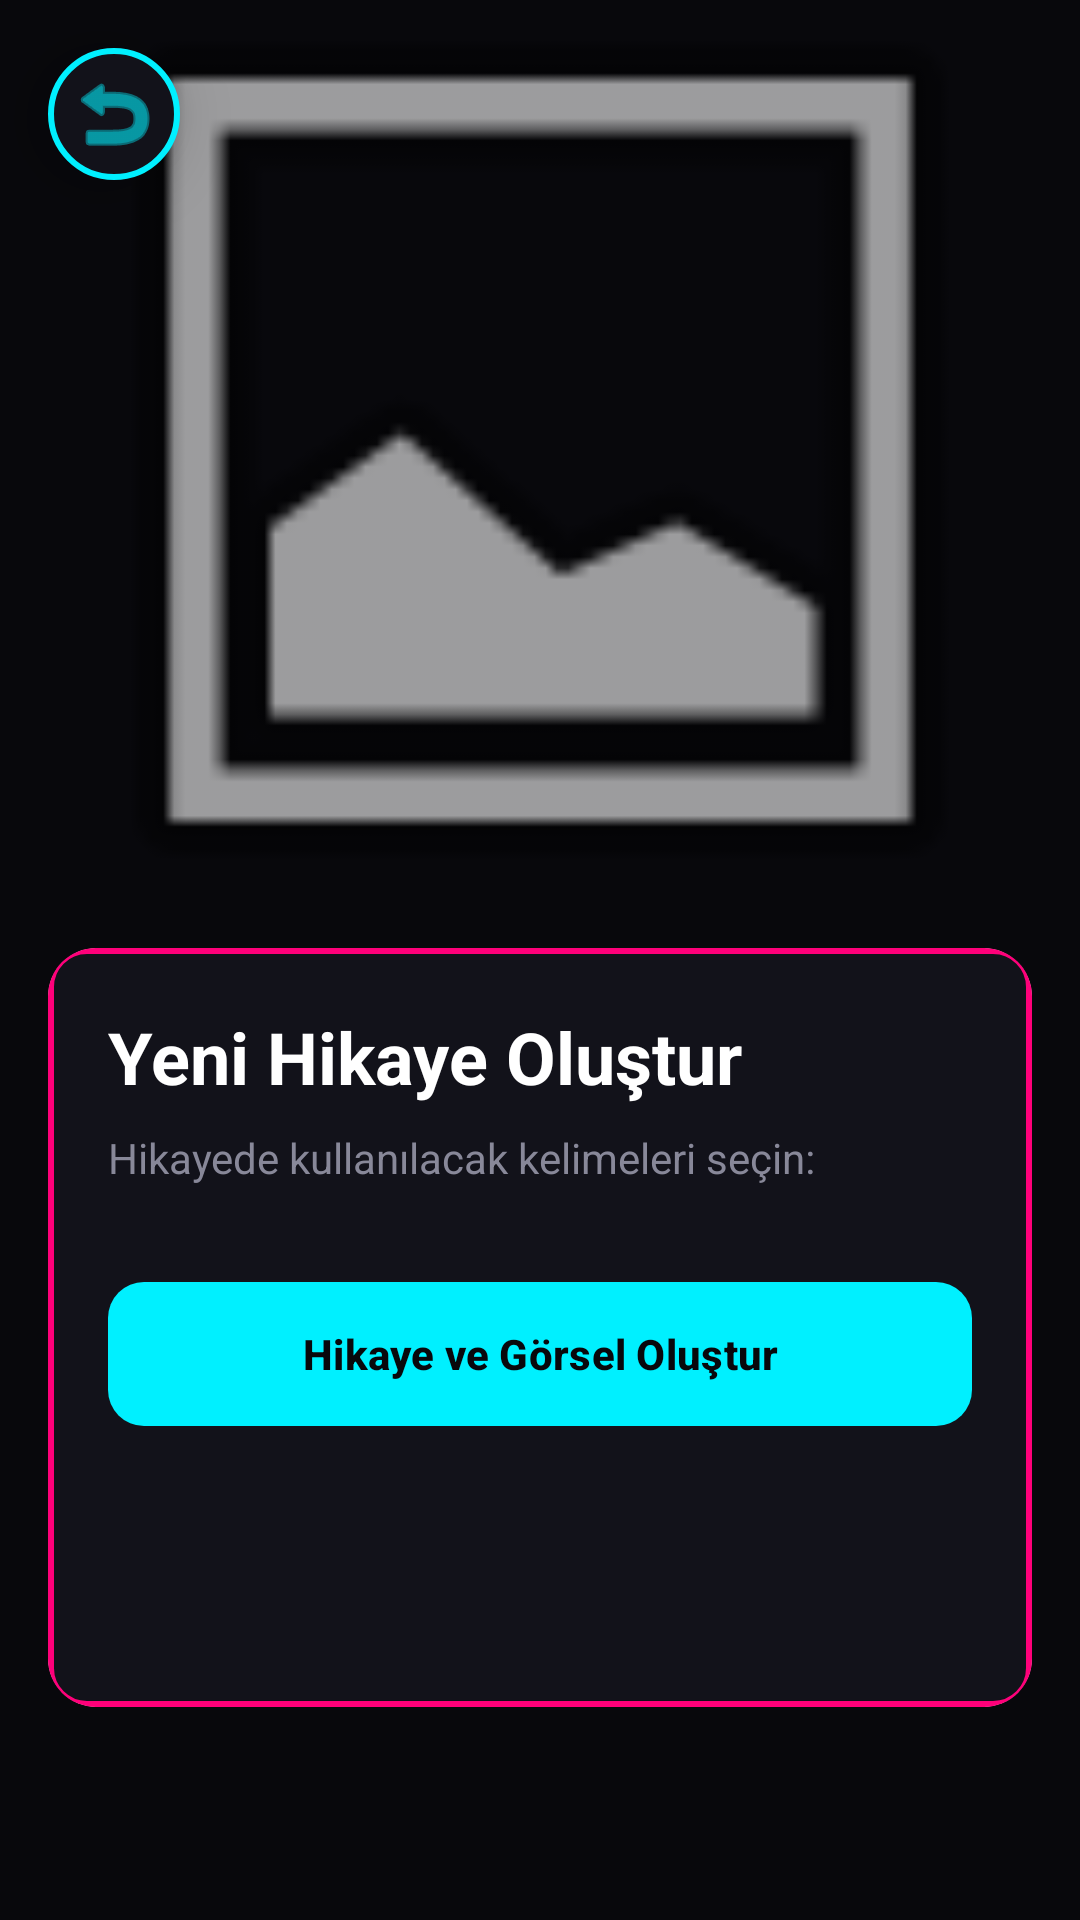

Named icons in this screenshot (1080 × 1920) and their centers, (x,y):
Geri Dön: (114,114)
